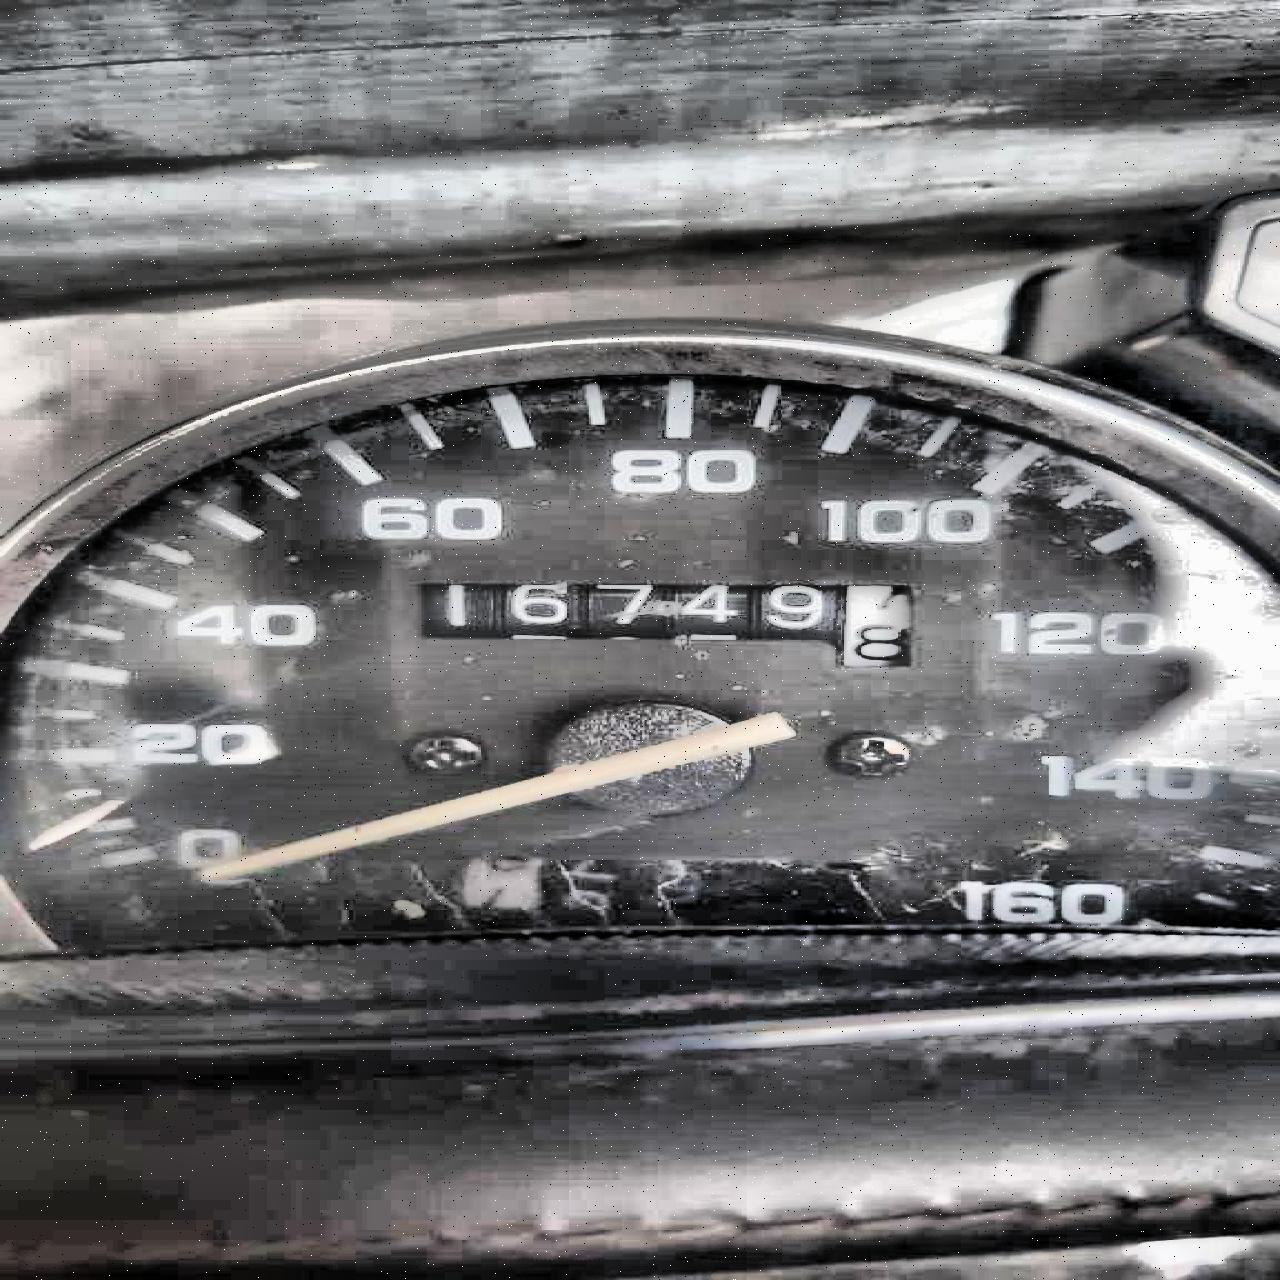1: (444, 583, 467, 626)
4: (675, 584, 737, 621)
6: (511, 580, 567, 624)
7: (591, 581, 653, 624)
8: (849, 622, 907, 660)
9: (762, 584, 822, 628)
odometer: (404, 577, 922, 673)
